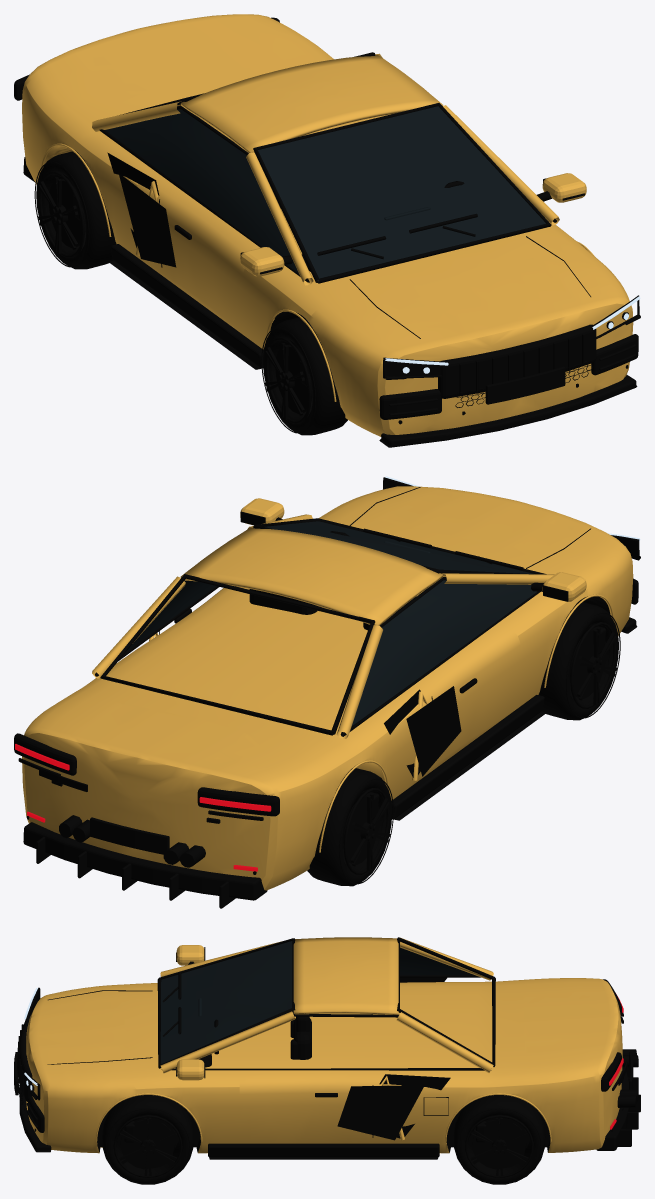
Rendered from sport.glb.
The picture shows the model from 3 angles, top to bottom: view 1: azimuth 30°, elevation 25°; view 2: azimuth 150°, elevation 25°; view 3: azimuth 270°, elevation 25°; orthographic projection. The views are drawn at different scales.
Visible parts, largest first — view 1: chassis.001__Automotive clearcoat, chassis.001__Solar glass, chassis.001__Vehicle detail atlas, wheel_FL.001__Vehicle detail atlas, wheel_RL.001__Vehicle detail atlas; view 2: chassis.001__Automotive clearcoat, chassis.001__Vehicle detail atlas, chassis.001__Solar glass, wheel_RL.001__Vehicle detail atlas, wheel_FL.001__Vehicle detail atlas, chassis.001__Red LED optics; view 3: chassis.001__Automotive clearcoat, chassis.001__Vehicle detail atlas, chassis.001__Solar glass, wheel_FR.001__Vehicle detail atlas, wheel_RR.001__Vehicle detail atlas.
Part boxes in pixels (x1=…): chassis.001__Automotive clearcoat: x1=22, y1=14, x2=633, y2=436; chassis.001__Solar glass: x1=105, y1=106, x2=545, y2=281; chassis.001__Vehicle detail atlas: x1=14, y1=17, x2=639, y2=447; wheel_FL.001__Vehicle detail atlas: x1=261, y1=316, x2=347, y2=435; wheel_RL.001__Vehicle detail atlas: x1=34, y1=150, x2=116, y2=269; chassis.001__Automotive clearcoat: x1=22, y1=486, x2=633, y2=890; chassis.001__Vehicle detail atlas: x1=14, y1=477, x2=639, y2=908; chassis.001__Solar glass: x1=125, y1=521, x2=536, y2=725; wheel_RL.001__Vehicle detail atlas: x1=307, y1=768, x2=393, y2=886; wheel_FL.001__Vehicle detail atlas: x1=539, y1=601, x2=620, y2=720; chassis.001__Red LED optics: x1=15, y1=744, x2=271, y2=871; chassis.001__Automotive clearcoat: x1=26, y1=937, x2=622, y2=1153; chassis.001__Vehicle detail atlas: x1=14, y1=937, x2=640, y2=1159; chassis.001__Solar glass: x1=160, y1=941, x2=474, y2=1064; wheel_FR.001__Vehicle detail atlas: x1=102, y1=1095, x2=193, y2=1184; wheel_RR.001__Vehicle detail atlas: x1=453, y1=1095, x2=545, y2=1184.
Bounding box in the file's own units: 2.18 × 1.32 × 4.59.
Materials: 8 (6 with a texture image).
